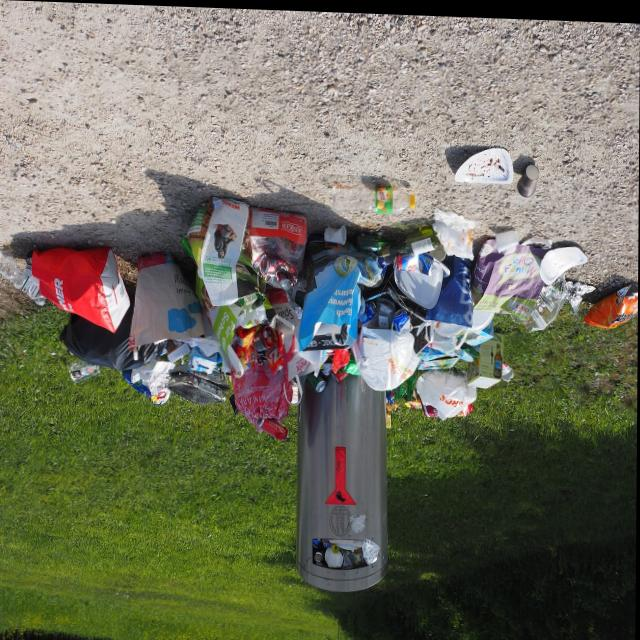6: (300, 245, 358, 348)
7: (517, 157, 540, 197), (325, 222, 347, 245)
Plastic: (417, 365, 477, 420), (330, 180, 416, 214), (584, 278, 638, 325)
